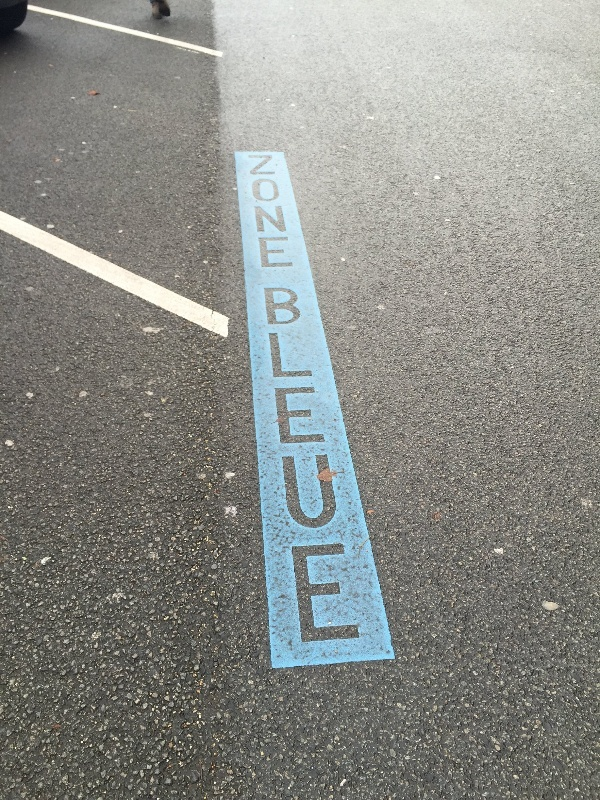text: (273, 153, 288, 644), (289, 153, 304, 644), (305, 153, 320, 644), (321, 153, 336, 644), (337, 153, 352, 644), (353, 153, 361, 644), (271, 153, 272, 644)
